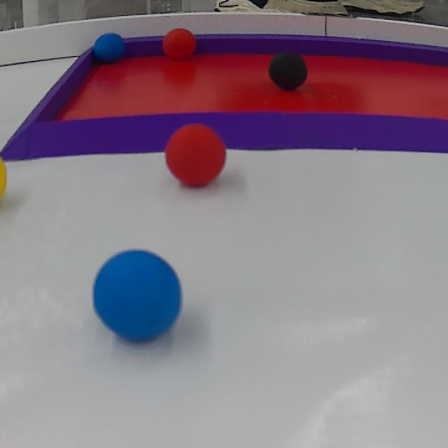black: (266, 51, 310, 95)
blue: (90, 247, 185, 349), (91, 32, 124, 66)
red: (162, 121, 227, 189), (160, 29, 199, 66)
red_aim: (6, 28, 448, 179)
